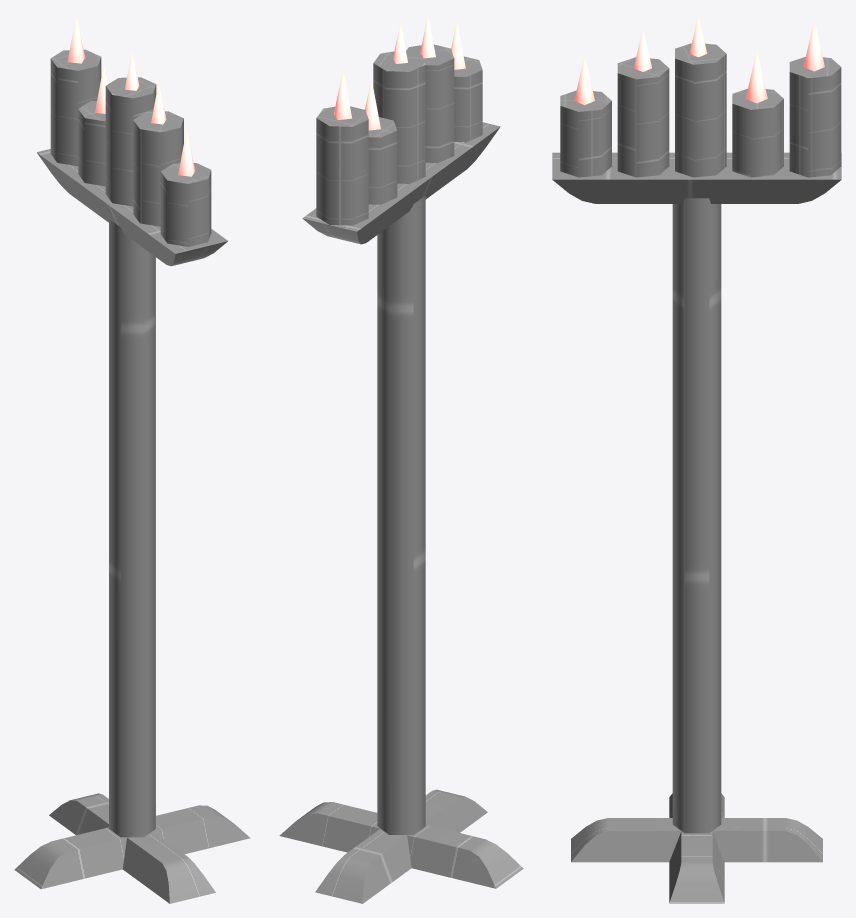
The model's file is StandCandle_01.fbx.
3 renders of one model, left to right at view 1: azimuth 30°, elevation 25°; view 2: azimuth 150°, elevation 25°; view 3: azimuth 270°, elevation 25°, orthographic. The views are drawn at different scales.
Visible parts, largest first — view 1: StandCandle_01; view 2: StandCandle_01; view 3: StandCandle_01.
Boxes of the visible parts, x1,y1,x2,y2 form: StandCandle_01: (14, 15, 250, 903); StandCandle_01: (279, 15, 523, 903); StandCandle_01: (552, 15, 841, 903).
Size of the model in its own units: 68.83 by 252 by 79.01.
